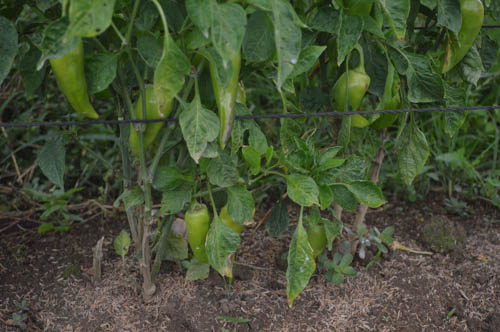ChiliPepper: (54, 45, 96, 120), (128, 90, 172, 153), (208, 61, 237, 144), (451, 4, 485, 60), (184, 208, 216, 265), (336, 78, 369, 114)
